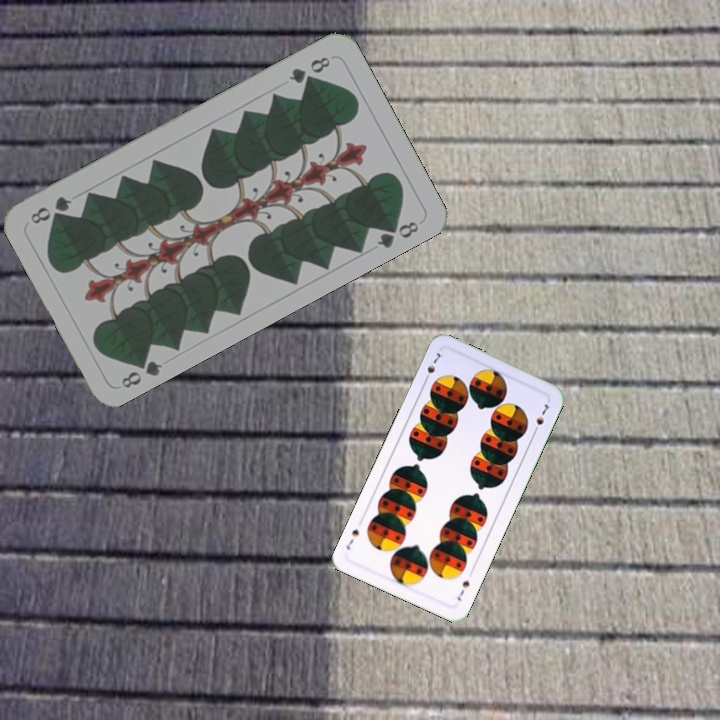G8: (117, 351, 165, 391), (284, 52, 333, 87)
S7: (420, 347, 446, 385), (453, 576, 472, 604)
